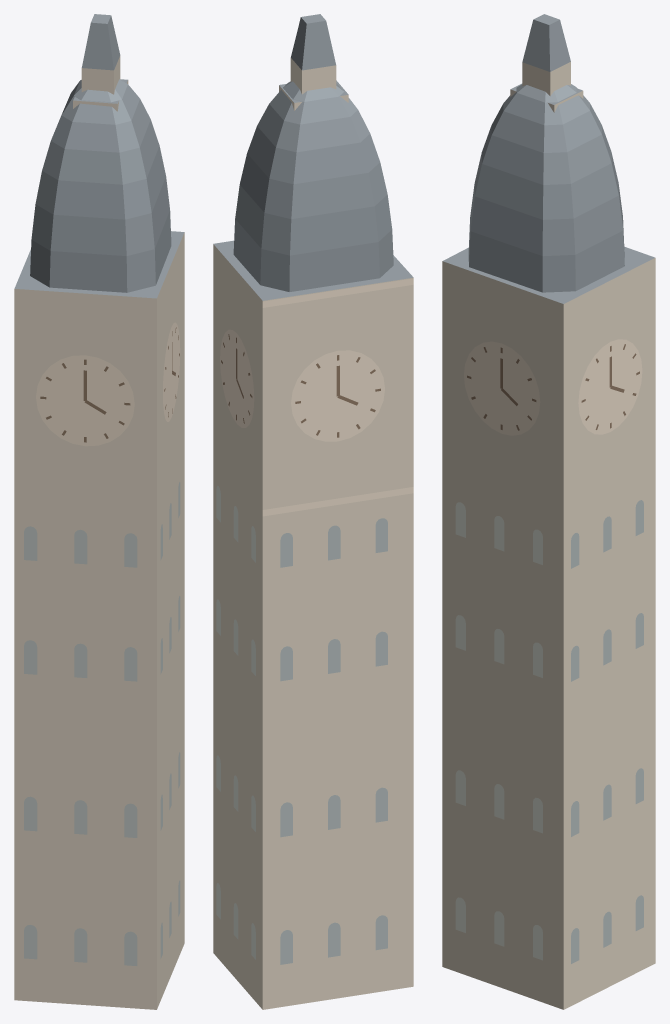
3 views of the same model, side by side, from view 1: azimuth 30°, elevation 25°; view 2: azimuth 150°, elevation 25°; view 3: azimuth 270°, elevation 25° (orthographic).
Parts seen in each view (by area): view 1: stone, roof, trim, window, metal; view 2: stone, roof, trim, window, metal; view 3: stone, roof, trim, window, metal.
Boxes of the visible parts, bbox=[...] form: stone: bbox=[14, 56, 184, 1009]; roof: bbox=[14, 14, 184, 298]; trim: bbox=[36, 322, 180, 446]; window: bbox=[24, 482, 180, 965]; metal: bbox=[40, 327, 179, 442]; stone: bbox=[213, 58, 413, 1009]; roof: bbox=[213, 14, 413, 300]; trim: bbox=[220, 278, 413, 516]; window: bbox=[216, 485, 387, 964]; metal: bbox=[221, 334, 380, 437]; stone: bbox=[442, 61, 655, 1009]; roof: bbox=[443, 14, 654, 303]; trim: bbox=[464, 339, 642, 435]; window: bbox=[455, 500, 643, 963]; metal: bbox=[467, 344, 639, 430].
Size of the model in its own units: 13.66 by 67 by 13.68.
